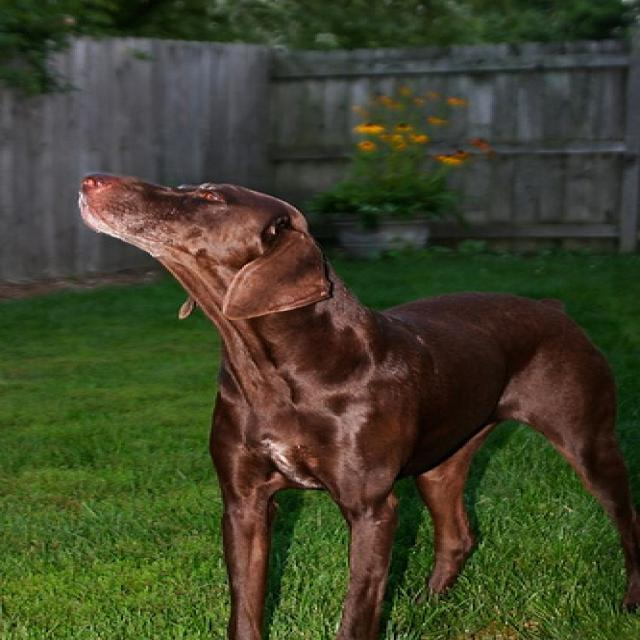dog-german_shorthaired: (65, 168, 636, 637)
